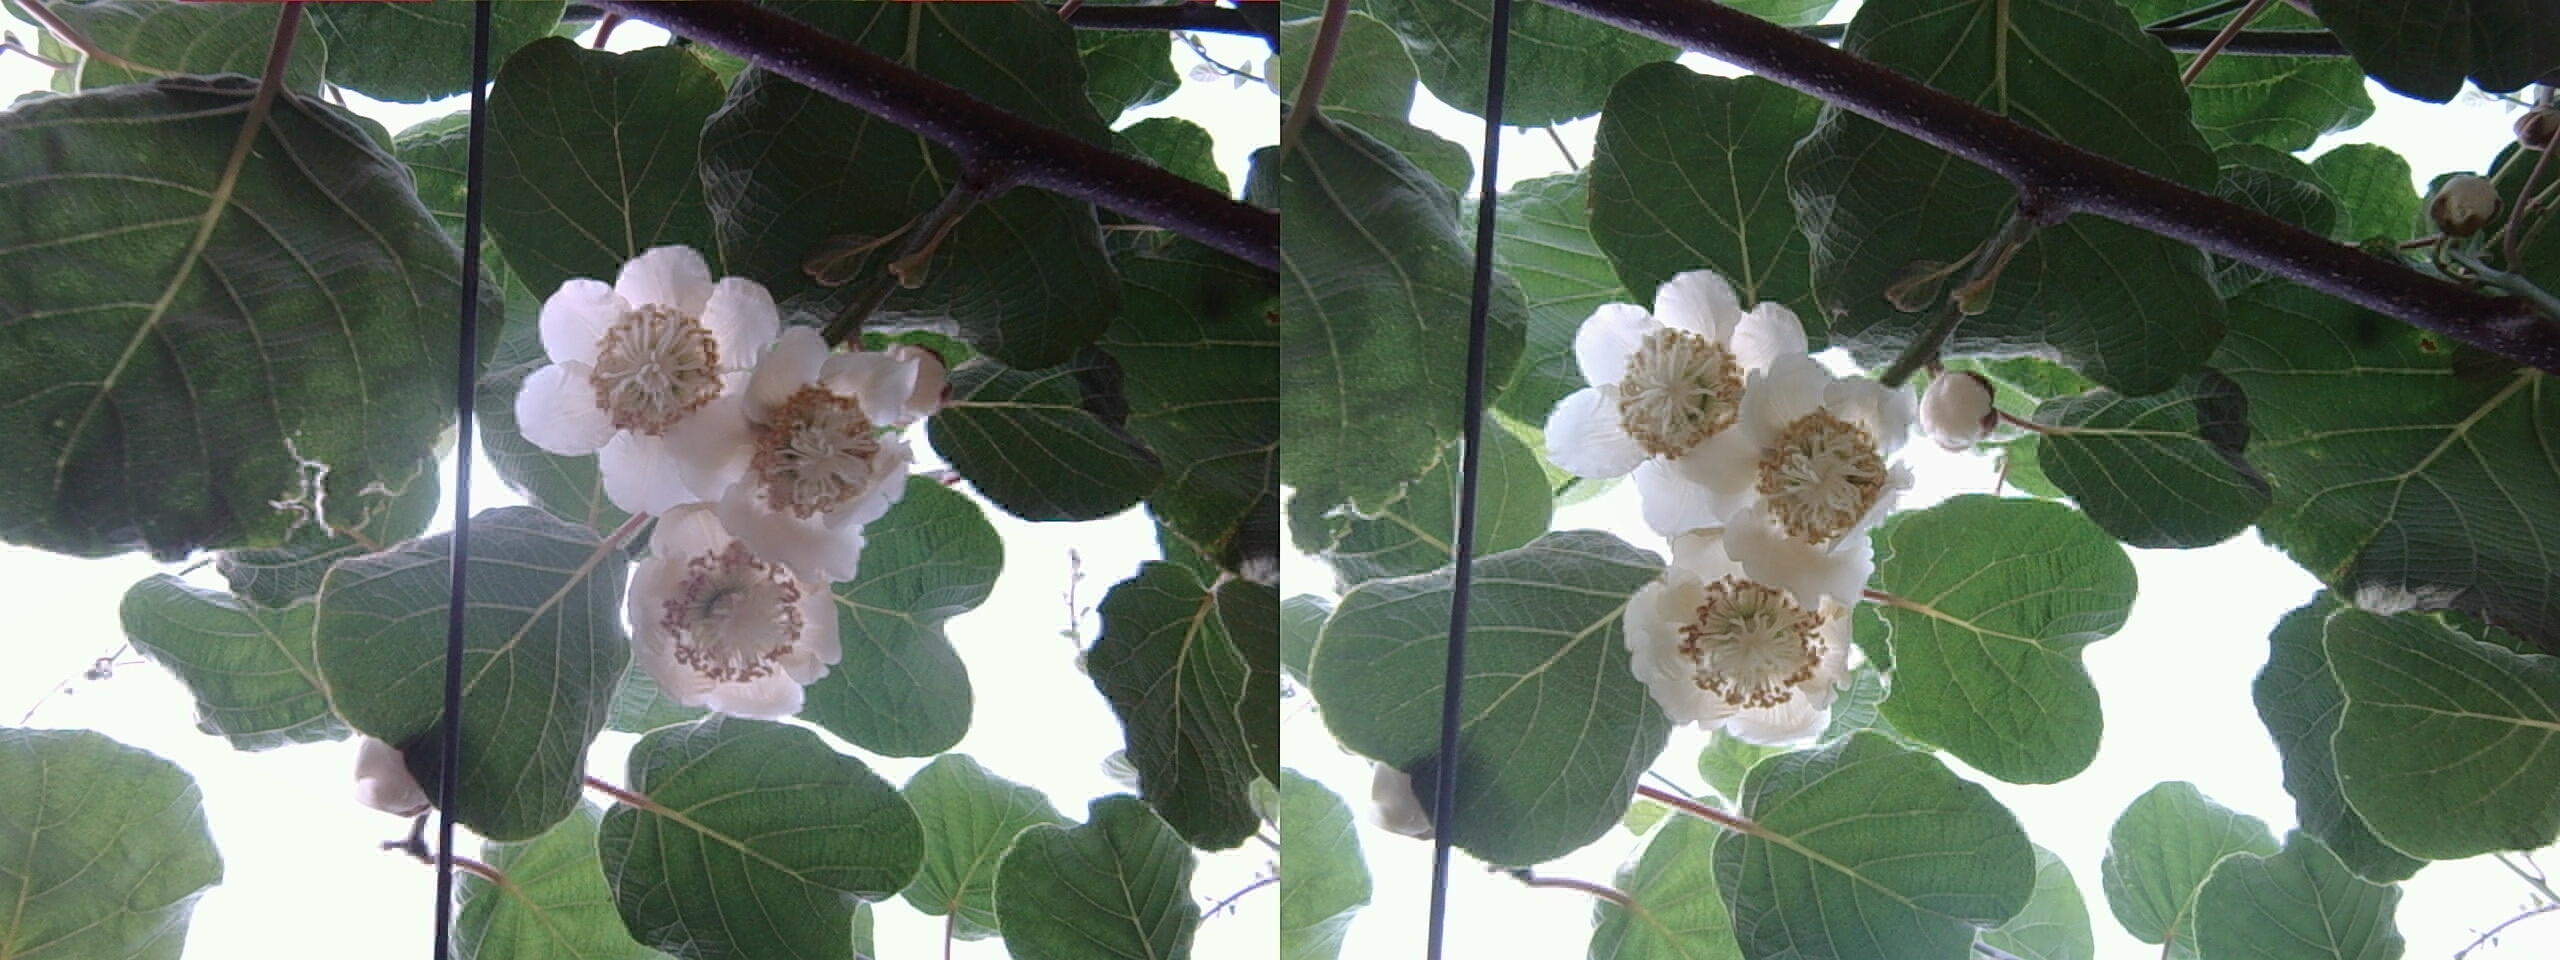flower: (673, 327, 932, 567), (514, 251, 753, 478), (1687, 353, 1918, 578), (609, 508, 857, 713), (1620, 540, 1869, 741), (1551, 271, 1775, 483)
